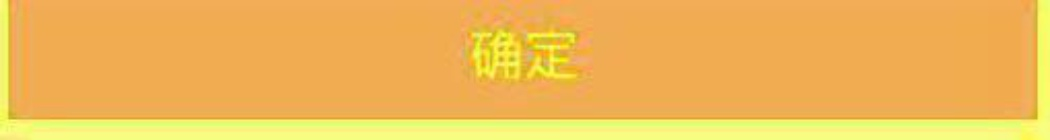Button: (1, 1, 1049, 139)
